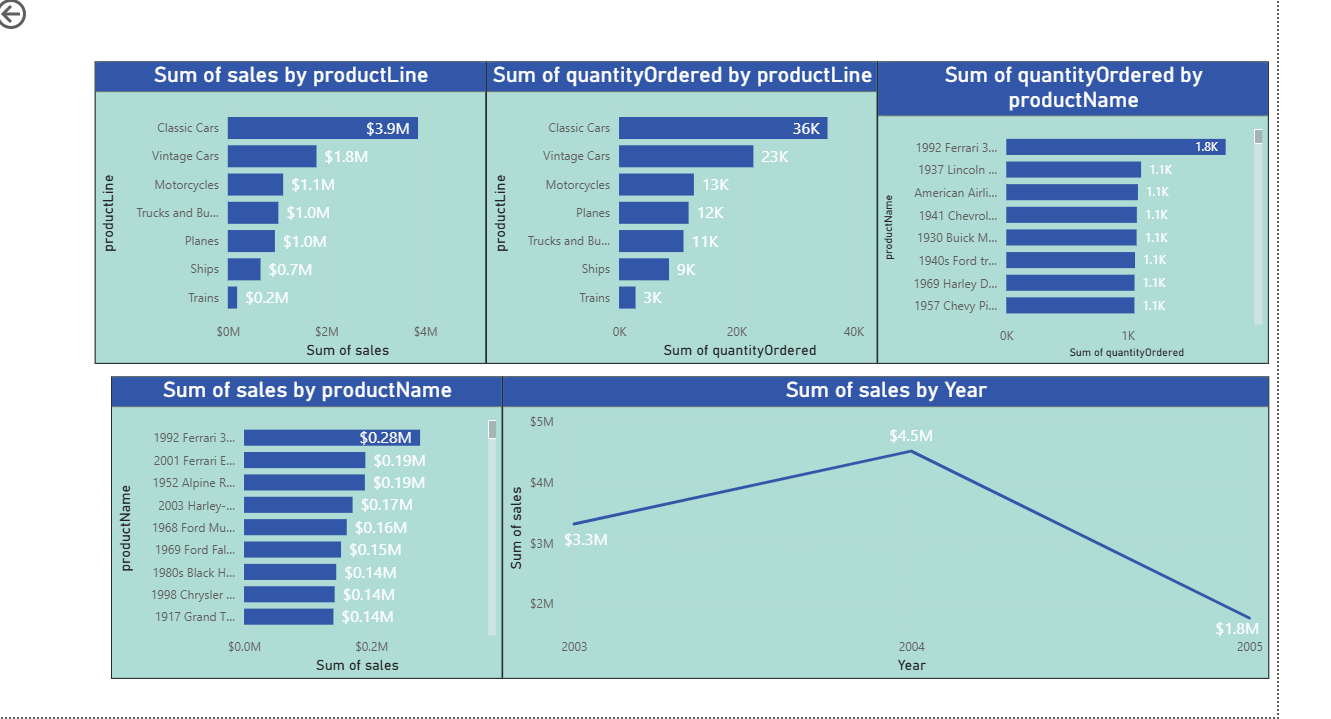

Layout of this report page (visuals, bound fields, positions):
{"tool":"powerbi","page":{"name":"Page 2","canvas":[1280,720],"ordinal":2},"visuals":[{"type":"actionButton","box":[0,0,54.9,39.8],"z":0},{"type":"barChart","fields":{"Category":["product lines.productLine"],"Y":["Sum(order details.sales)"]},"box":[102.9,67.2,389.7,300.5],"z":1000},{"type":"barChart","fields":{"Category":["product lines.productLine"],"Y":["Sum(order details.quantityOrdered)"]},"box":[492.6,67.5,389.7,300.5],"z":2000},{"type":"barChart","fields":{"Y":["Sum(order details.sales)"],"Category":["products.productName"]},"box":[119.4,380.1,389.7,300.5],"z":3000},{"type":"lineChart","fields":{"Y":["Sum(order details.sales)"],"Category":["orders.orderDate.Variation.Date Hierarchy.Year","orders.orderDate.Variation.Date Hierarchy.Quarter","orders.orderDate.Variation.Date Hierarchy.Month","orders.orderDate.Variation.Date Hierarchy.Day"]},"box":[509.1,380.1,763,300.5],"z":4000},{"type":"barChart","fields":{"Category":["products.productName"],"Y":["Sum(order details.quantityOrdered)"]},"box":[882.3,67.2,389.7,300.5],"z":5000}]}

Visuals, with their boxes on the page's 1280x720 design canvas (x1, y1, x2, y2). These are canvas units, not pixel positions in the 1331x719 screenshot, which may show the page scaled, cropped or inside an application window:
actionButton: <bbox>0, 0, 55, 40</bbox>
barChart - product lines.productLine x Sum(order details.sales): <bbox>103, 67, 493, 368</bbox>
barChart - product lines.productLine x Sum(order details.quantityOrdered): <bbox>493, 68, 882, 368</bbox>
barChart - Sum(order details.sales) x products.productName: <bbox>119, 380, 509, 681</bbox>
lineChart - Sum(order details.sales) x orders.orderDate.Variation.Date Hierarchy.Year: <bbox>509, 380, 1272, 681</bbox>
barChart - products.productName x Sum(order details.quantityOrdered): <bbox>882, 67, 1272, 368</bbox>
